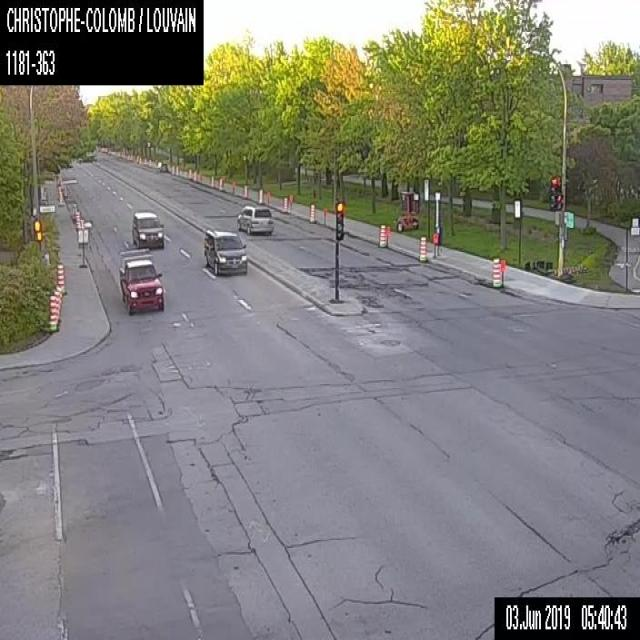construction: (395, 189, 419, 231), (77, 227, 89, 266), (49, 290, 60, 326), (48, 293, 58, 331), (50, 289, 61, 321), (491, 256, 502, 288), (56, 261, 65, 294), (419, 235, 427, 263), (499, 257, 506, 288), (378, 223, 386, 248), (384, 223, 391, 249), (432, 232, 439, 257), (320, 206, 328, 227), (309, 202, 315, 224), (288, 194, 293, 212), (75, 210, 79, 230), (242, 183, 247, 199), (266, 190, 270, 207), (283, 195, 287, 212), (58, 189, 62, 205), (258, 187, 262, 203), (219, 176, 223, 191), (193, 169, 197, 182), (210, 175, 214, 186), (80, 218, 84, 227), (188, 168, 191, 178), (232, 180, 234, 194), (172, 163, 174, 174), (176, 164, 178, 175)
vehicle: (117, 247, 164, 313), (204, 227, 247, 276), (132, 210, 163, 248), (236, 203, 273, 234), (159, 162, 167, 171)
